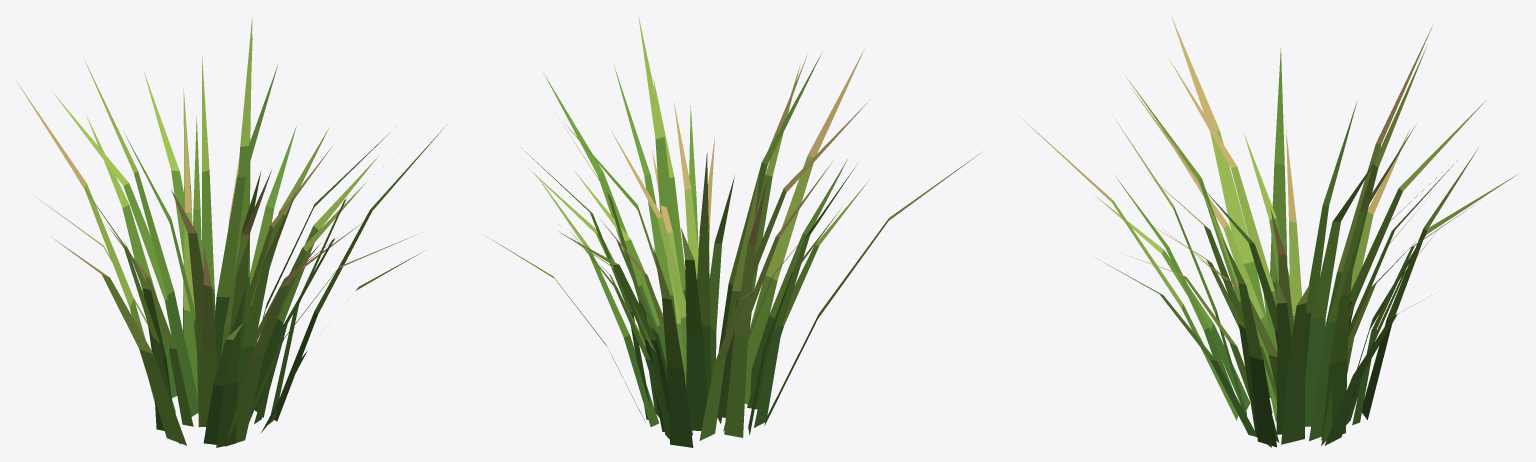
File: G03_TalahibClumpTall.glb
The picture shows the model from 3 angles, left to right: view 1: azimuth 30°, elevation 25°; view 2: azimuth 150°, elevation 25°; view 3: azimuth 270°, elevation 25°; orthographic projection. The views are drawn at different scales.
Visible parts, largest first — view 1: G03_TalahibClumpTall; view 2: G03_TalahibClumpTall; view 3: G03_TalahibClumpTall.
Boxes of the visible parts, x1,y1,x2,y2 form: G03_TalahibClumpTall: (16,17,446,447); G03_TalahibClumpTall: (486,15,981,447); G03_TalahibClumpTall: (1019,16,1517,447).
Bounding box in the file's own units: 3.4 × 2.61 × 3.4.
